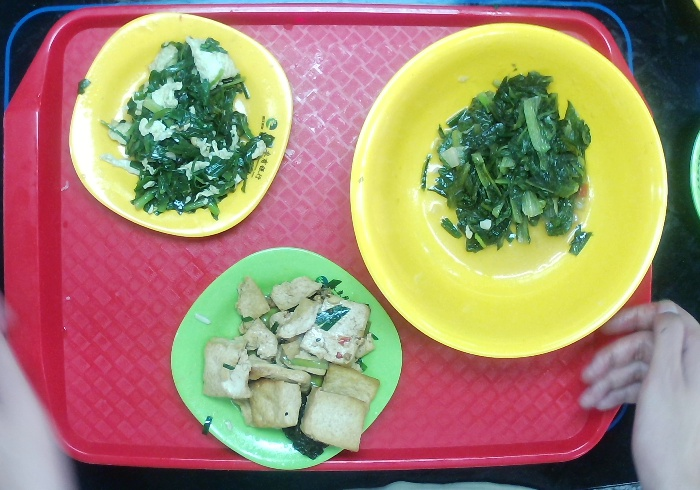YKMZ-Huang_Se_Fang_Die: (63, 5, 296, 244)
YKMZ-Huang_Se_Tang_Wan: (342, 16, 669, 364)
YKMZ-Lv_Se_Fang_Die: (163, 244, 406, 475)
